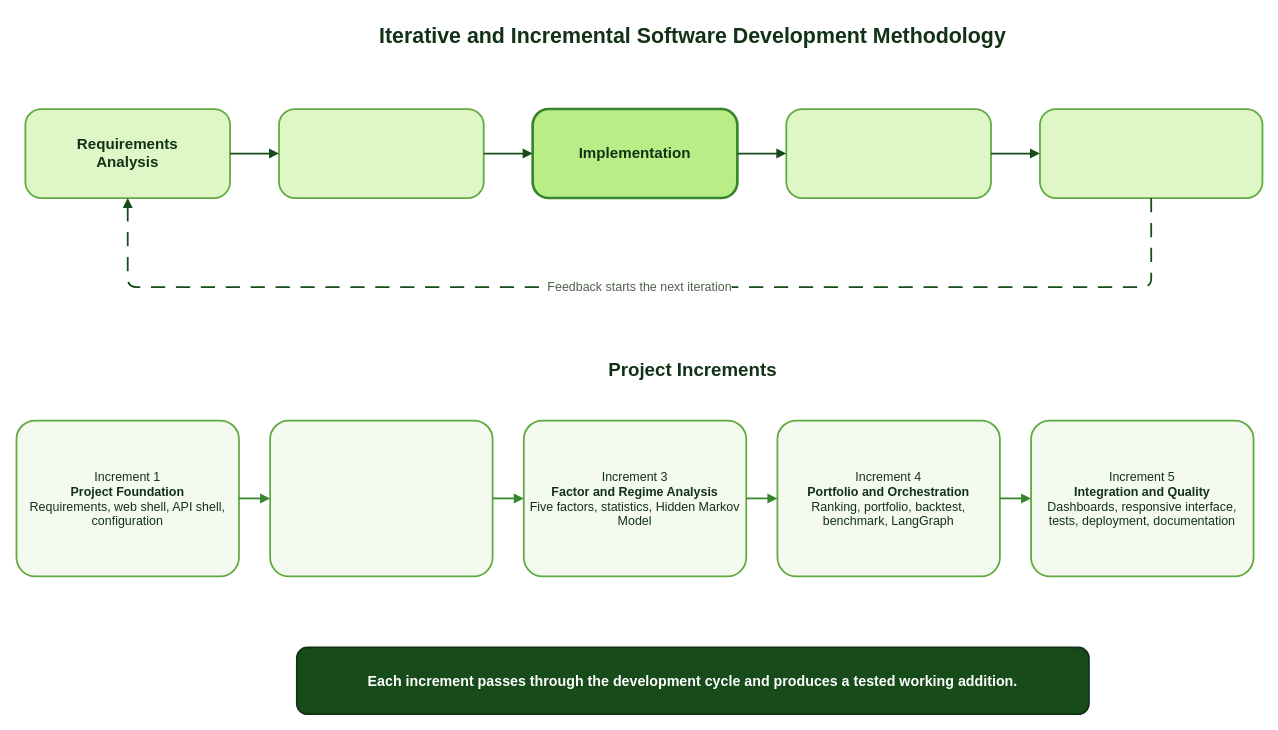
Some shapes in this 1278 by 730 pixel diagram are drawn without their labels. The box of each missing label's shape, as (x1, y1, x2, y2) in pixels:
Increment 2 Research Data Schema, migrations, validation, ingestion, alignment: (269, 419, 493, 577)
Review and Feedback: (1039, 108, 1263, 198)
System Design: (278, 108, 484, 198)
Testing: (785, 108, 991, 198)
